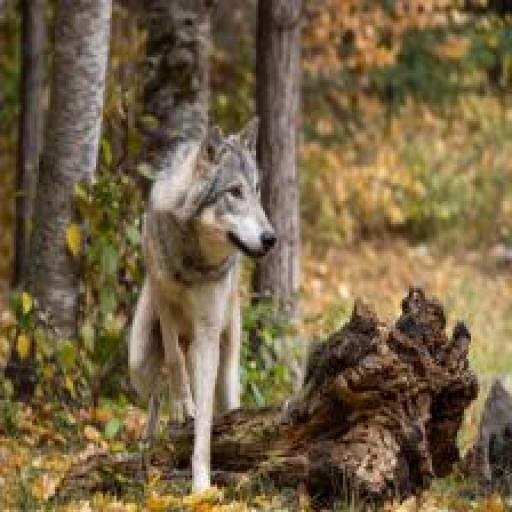wolf: (105, 68, 295, 478)
